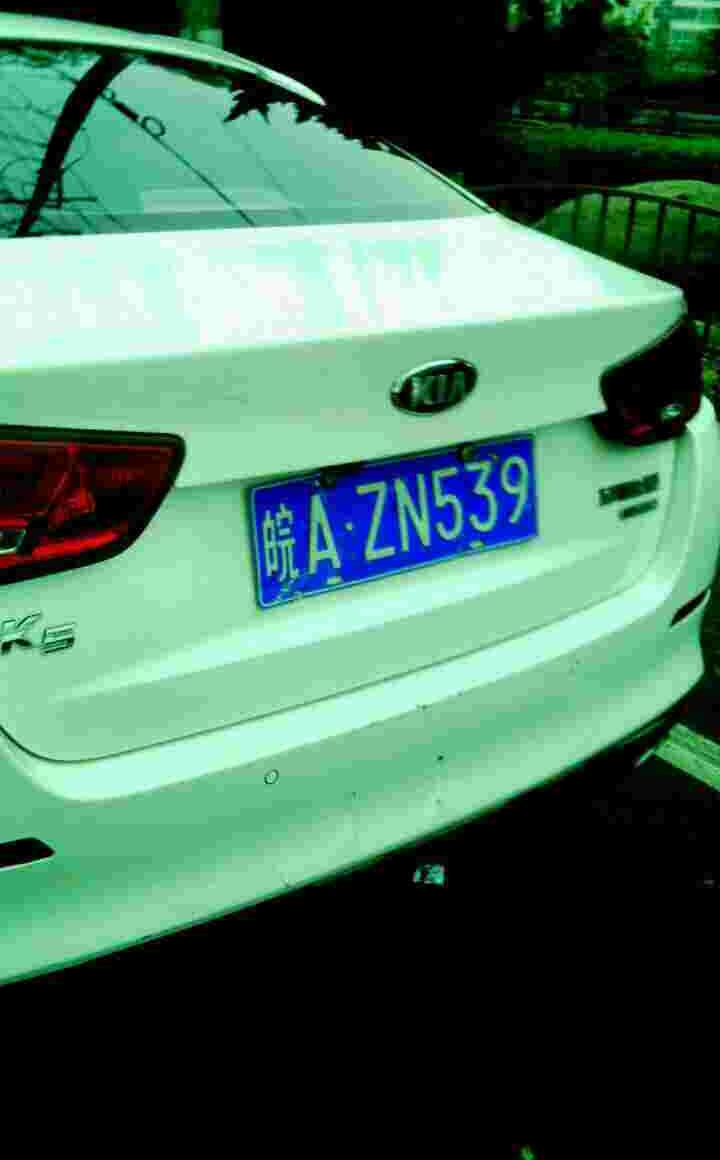license_plate: (255, 430, 546, 604)
